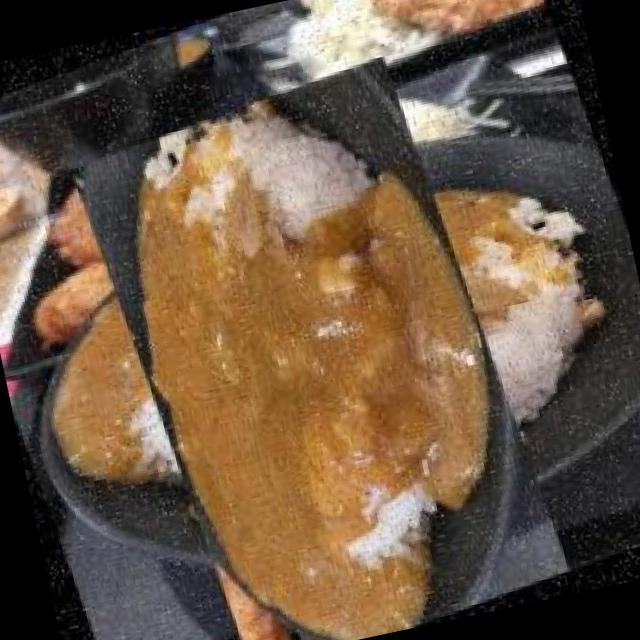curry: (22, 76, 621, 640)
